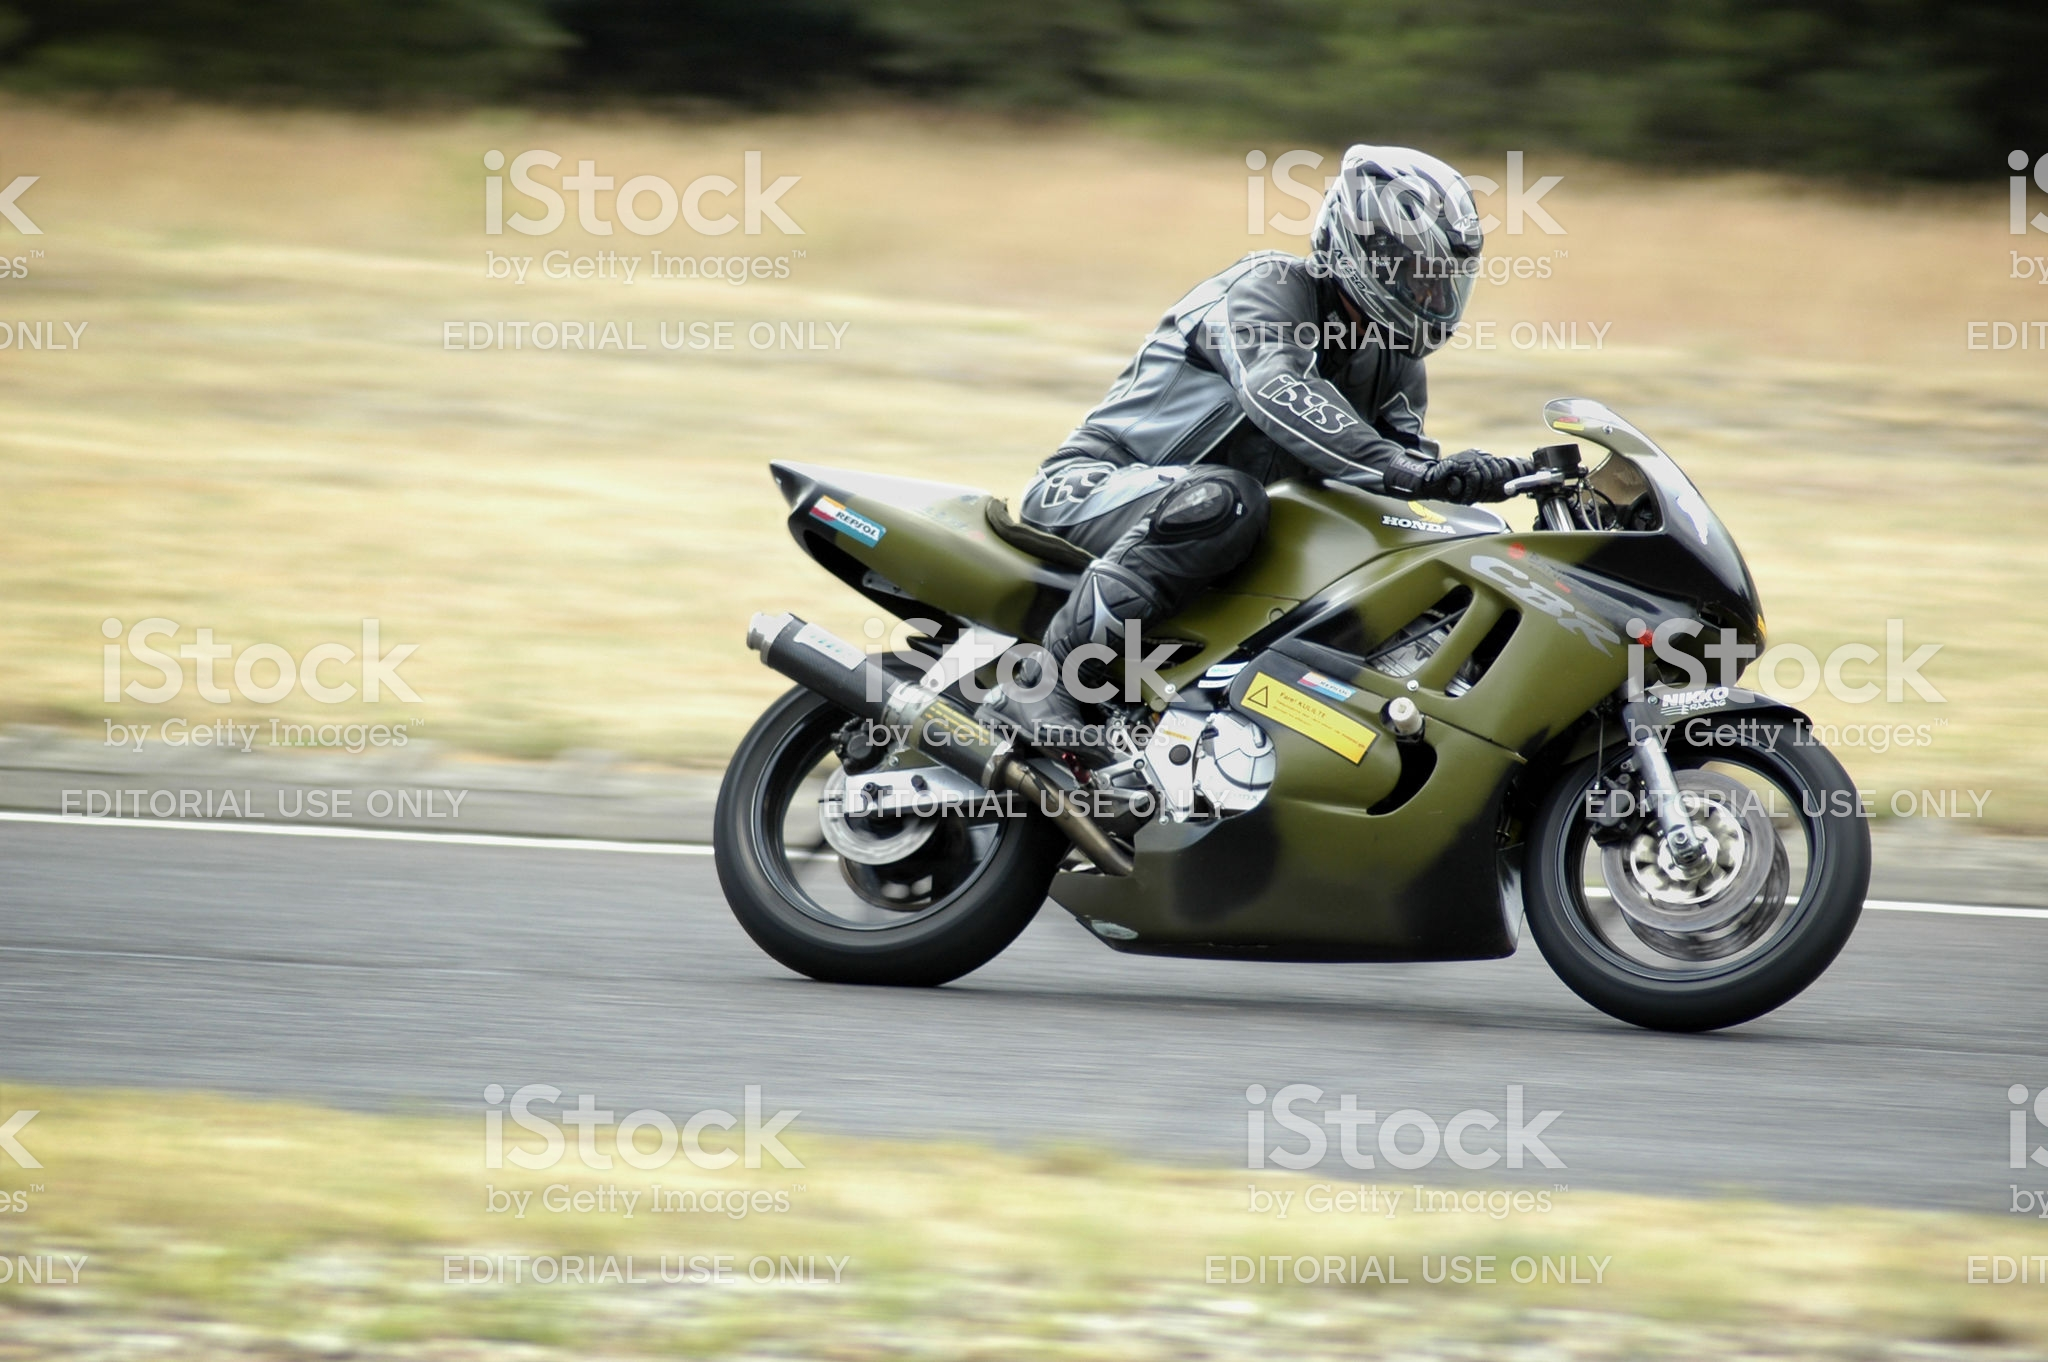helmet: (1310, 141, 1493, 359)
